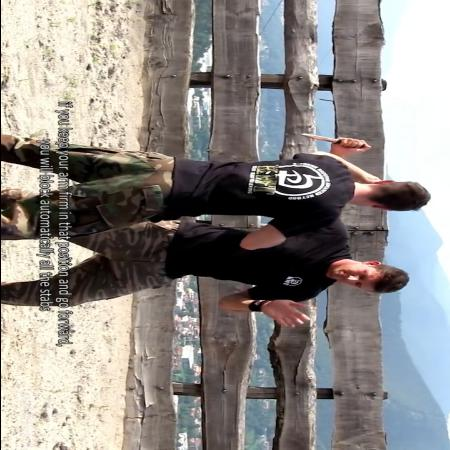long weapon: (298, 128, 376, 154)
